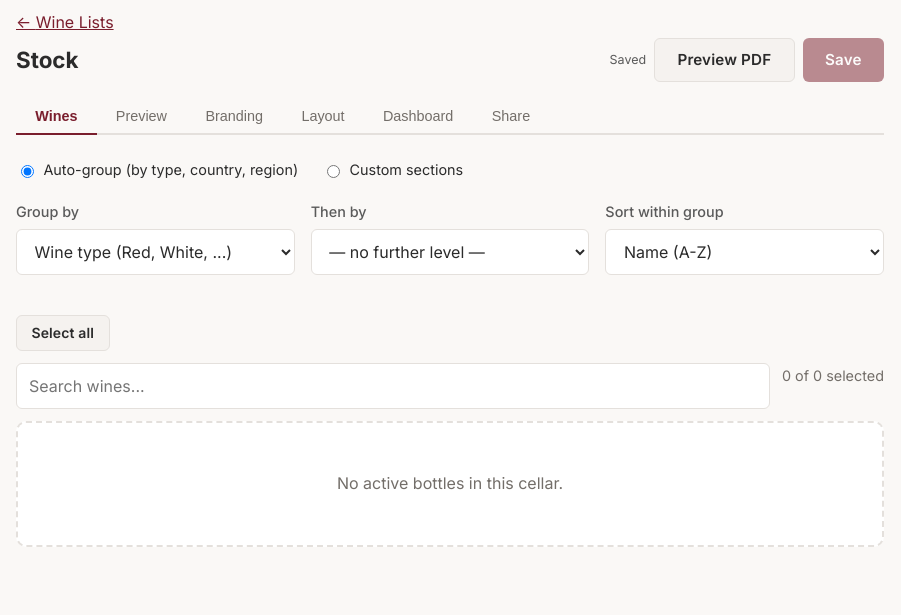
Test: WineListEditor save failures › a refused save shows the reason the server gave
Replace the text in the field showing "Stock" with "Stock 2": (305, 60) [16,42,594,78]
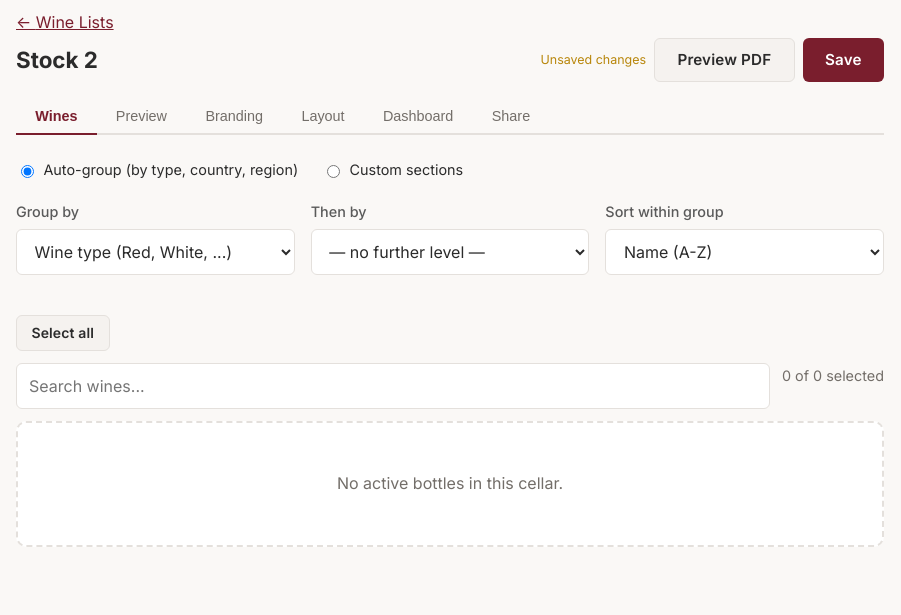
Click the button "Save": (843, 60) [803,38,884,82]
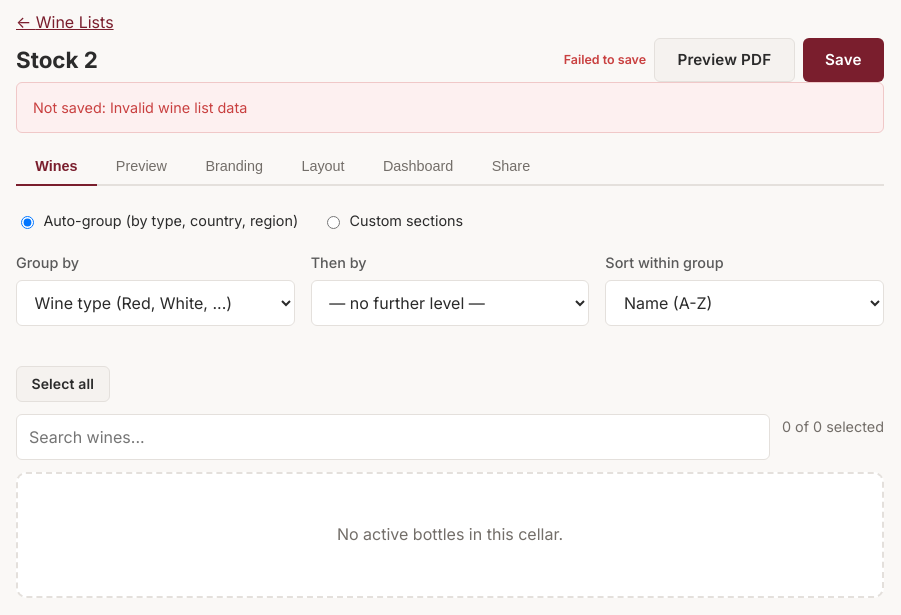
Now the message reads "Not saved: Invalid wine list data", box [33,99,247,116]
Now the text "Failed to save" is shown, box [564,51,646,69]
